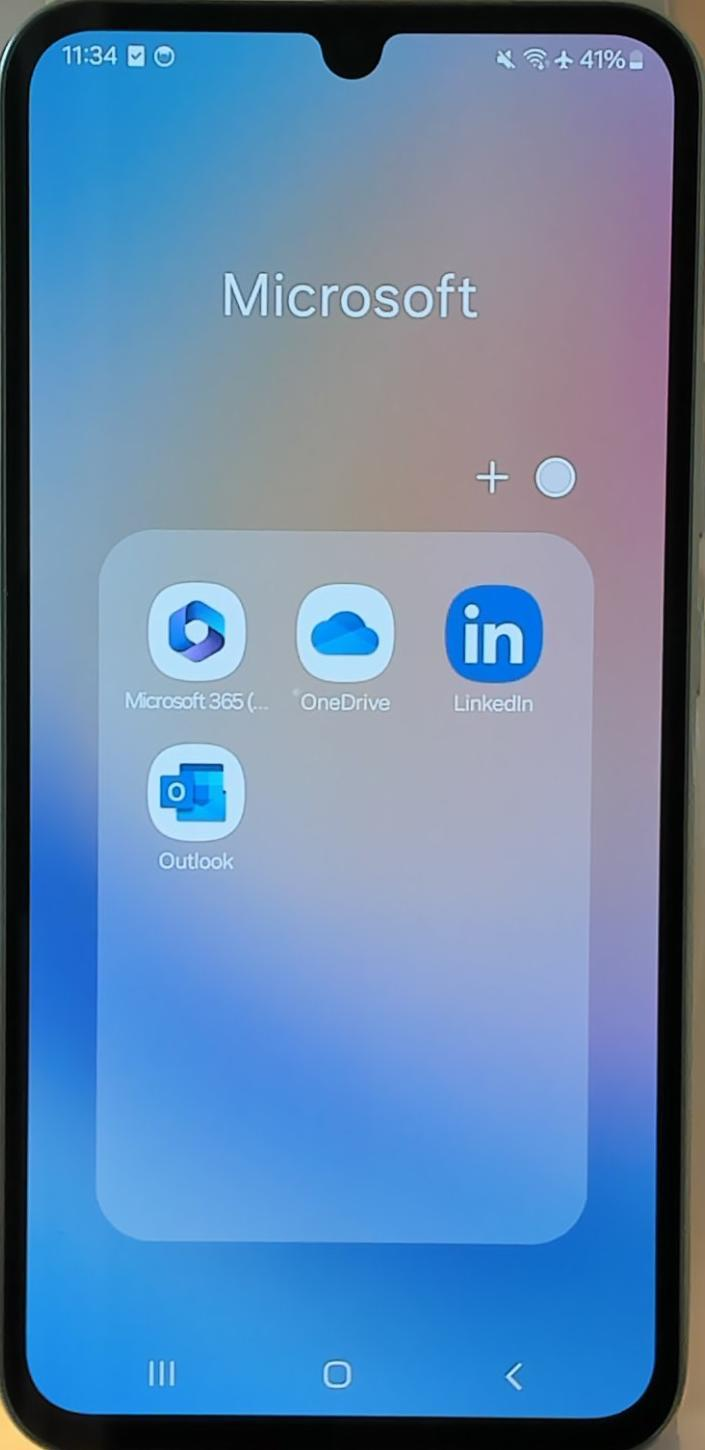CommunBotton: (122, 572, 266, 724), (288, 564, 402, 718), (438, 566, 544, 720), (138, 740, 248, 876), (124, 1334, 196, 1402), (484, 1346, 554, 1402), (312, 1344, 372, 1408), (474, 448, 512, 514)
RadioButton: (532, 446, 586, 514)
